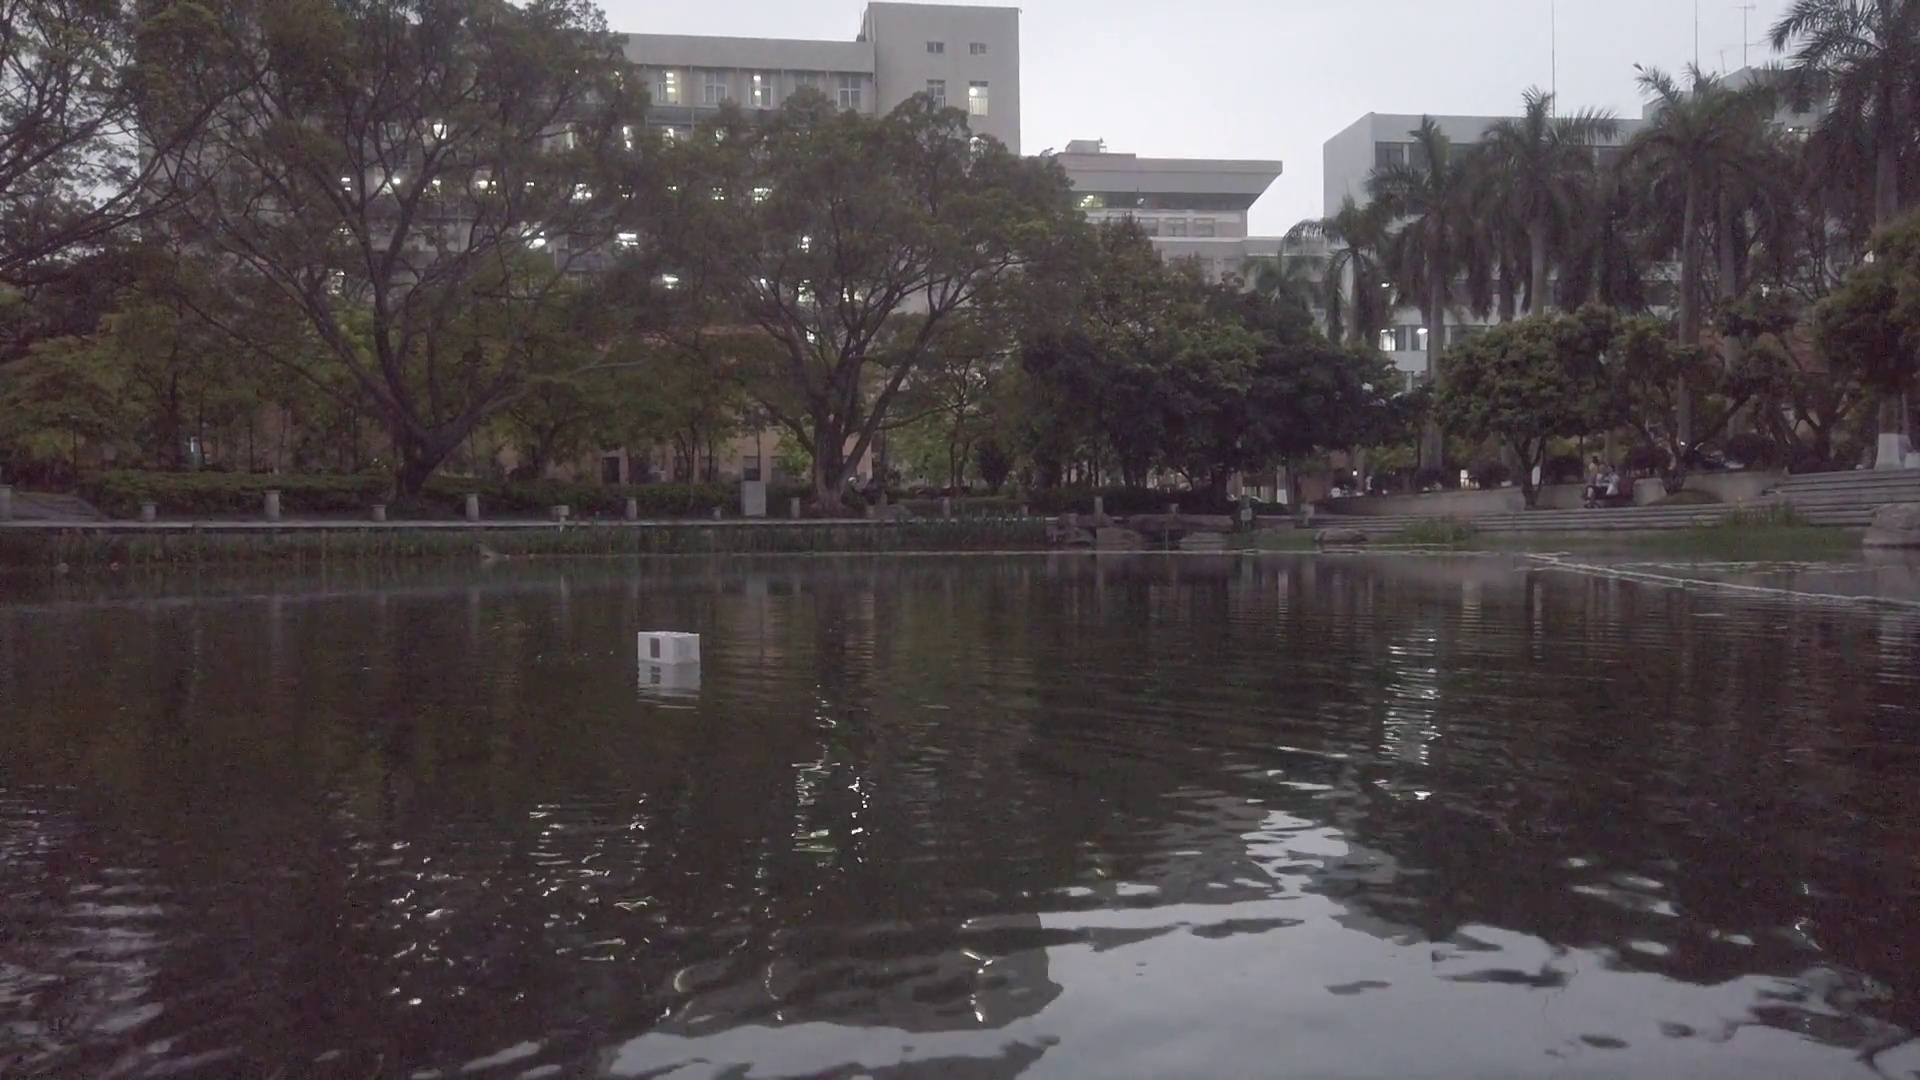carton: (636, 626, 703, 667)
